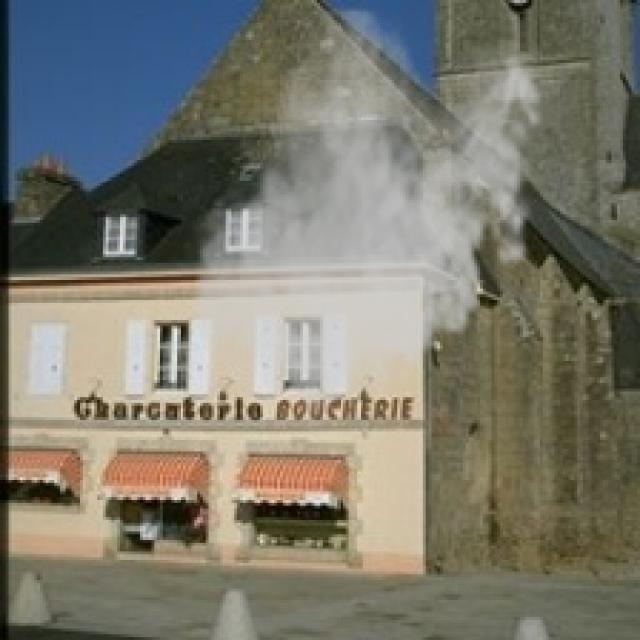Smoke: (186, 6, 554, 426)
